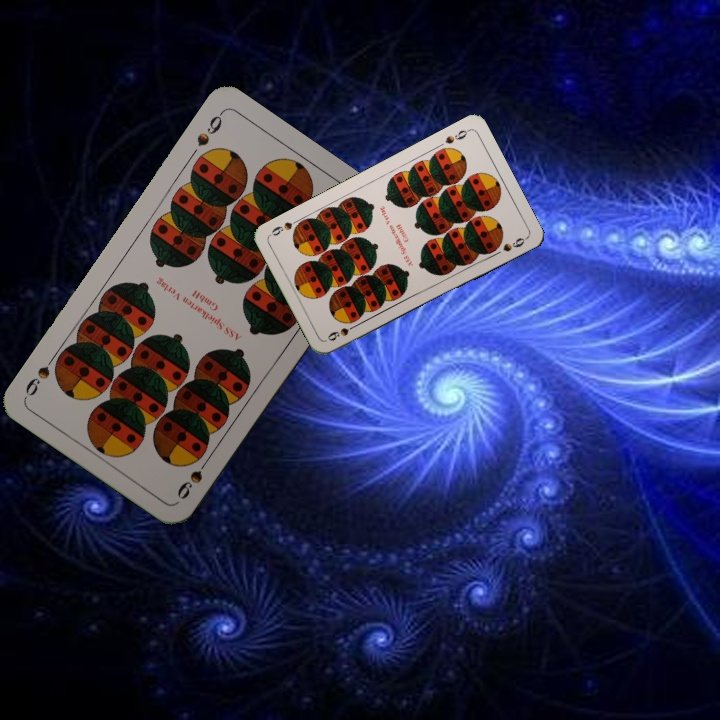S9: (172, 451, 214, 502), (192, 108, 226, 150), (323, 319, 361, 344), (441, 125, 472, 147)
